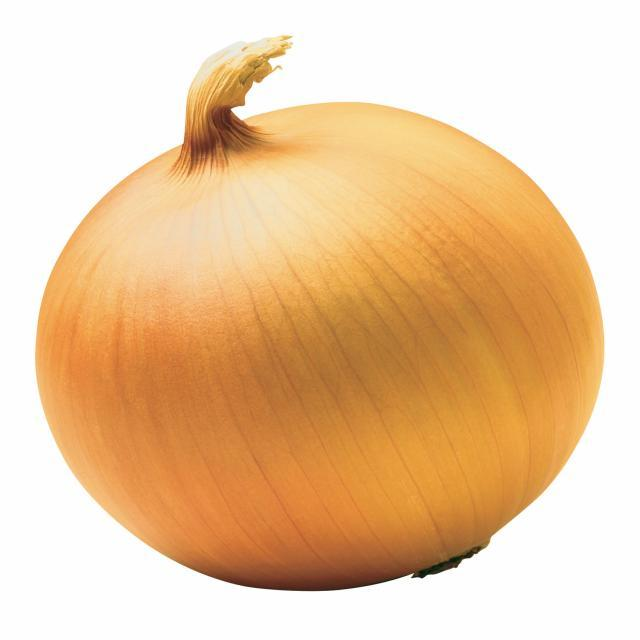onion: (34, 39, 608, 594)
